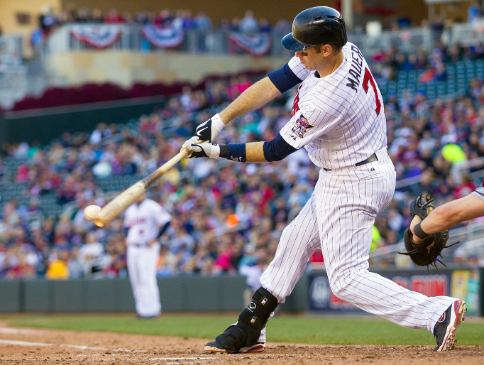ball: (80, 202, 102, 221)
